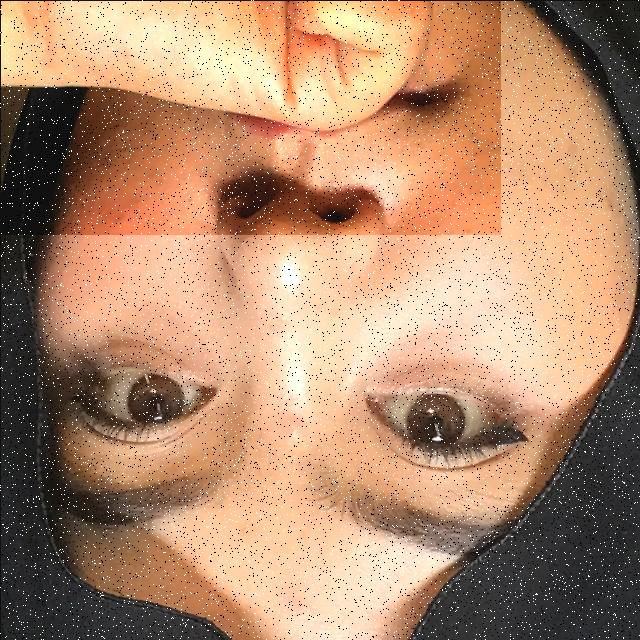sedih: (0, 0, 500, 234)
